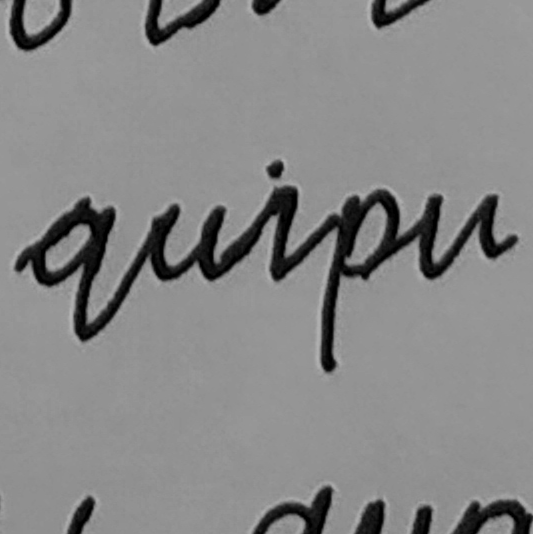i: (251, 156, 306, 287)
p: (313, 181, 406, 378)
q: (20, 191, 125, 351)
u: (412, 186, 505, 286), (142, 197, 232, 285)
